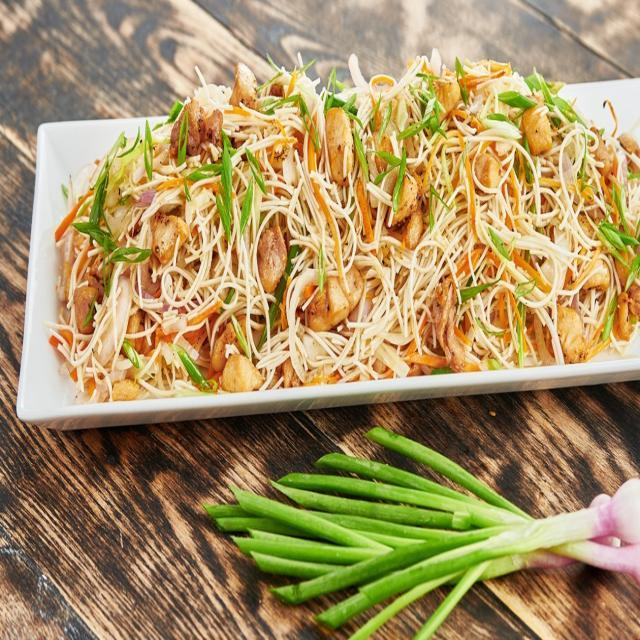Noodle: (50, 38, 630, 394)
